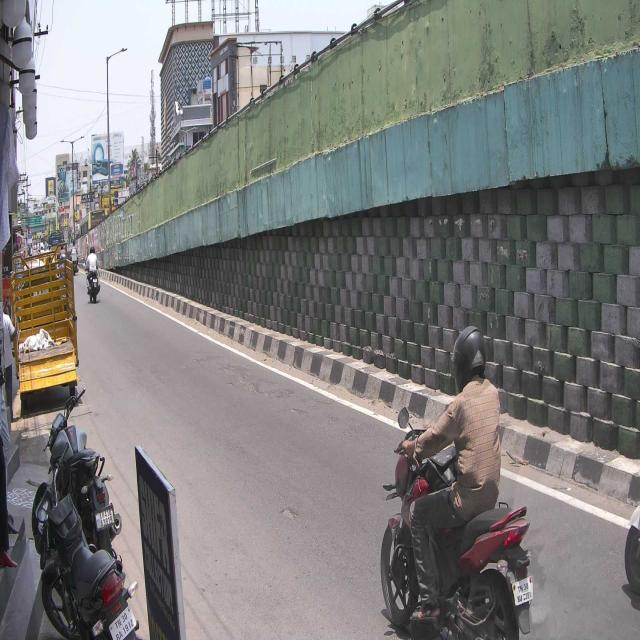single_rider: (378, 323, 537, 640)
